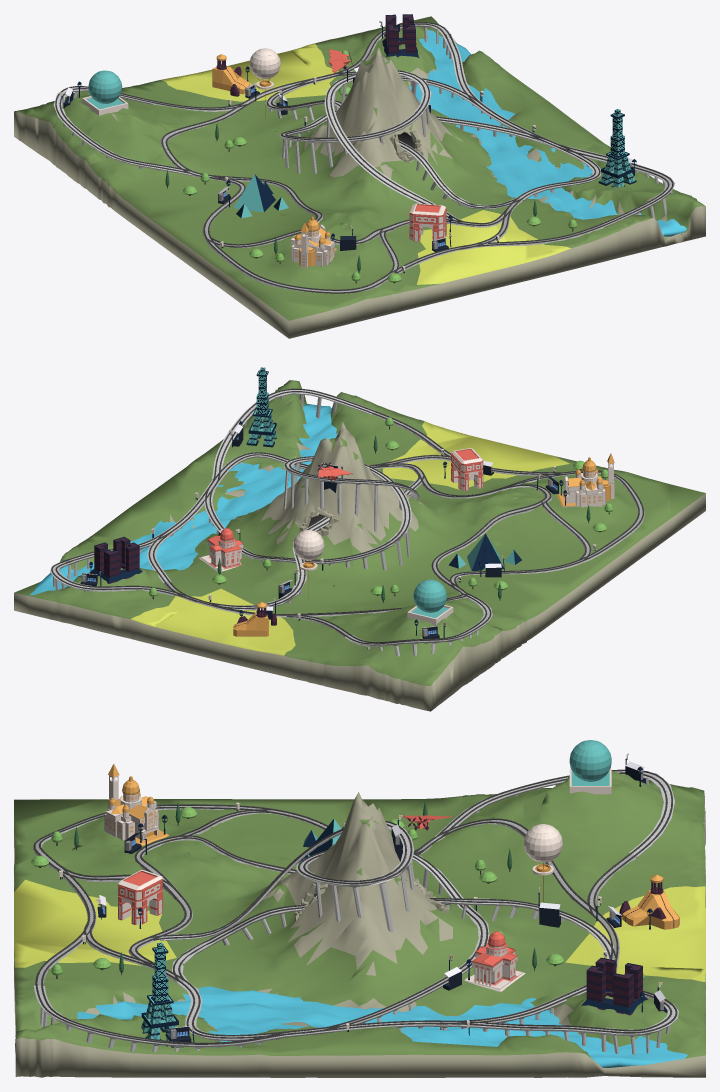
The model's file is Map_aramis_Export_Unity.fbx.
3 renders of one model, top to bottom at view 1: azimuth 30°, elevation 25°; view 2: azimuth 150°, elevation 25°; view 3: azimuth 270°, elevation 25°, orthographic. The views are drawn at different scales.
Parts seen in each view (by area): view 1: Landscape, Water, Bridge.009, Rail_1.001, Rail_3.001, Gravel_1, SacreCoeur, TourEiffel, geodeSocle, Rail_8.001, Rail_5.001, ArcdeTriomphe (+11 smaller); view 2: Landscape, Water, Bridge.009, Rail_1.001, SacreCoeur, Gravel_1, bibliFM, Rail_3.001, Bridge.006, geodeSocle, Rail_8.001, TourEiffel (+8 smaller); view 3: Landscape, Water, Bridge.009, Rail_1.001, SacreCoeur, Rail_3.001, bibliFM, Gravel_1, geodeSocle, Pantheon, Bridge.006, ArcdeTriomphe (+13 smaller).
Part boxes in pixels (x1,y1,x2,y2): Landscape: (14, 16, 705, 338); Water: (408, 29, 686, 236); Bridge.009: (53, 23, 674, 227); Rail_1.001: (161, 22, 600, 243); Rail_3.001: (281, 70, 555, 226); Gravel_1: (160, 32, 522, 244); SacreCoeur: (290, 216, 337, 268); TourEiffel: (598, 109, 636, 187); geodeSocle: (82, 70, 128, 115); Rail_8.001: (390, 144, 673, 273); Rail_5.001: (203, 175, 398, 293); ArcdeTriomphe: (409, 203, 446, 241); Landscape: (14, 380, 705, 711); Water: (30, 403, 338, 595); Bridge.009: (50, 388, 492, 656); Rail_1.001: (51, 452, 551, 615); SacreCoeur: (557, 453, 614, 507); Gravel_1: (89, 464, 552, 617); bibliFM: (90, 536, 142, 583); Rail_3.001: (205, 456, 424, 562); Bridge.006: (283, 457, 386, 532); geodeSocle: (407, 579, 453, 624); Rail_8.001: (212, 388, 561, 482); TourEiffel: (246, 367, 276, 447); Landscape: (14, 771, 705, 1077); Water: (77, 986, 687, 1067); Bridge.009: (33, 771, 678, 1054); Rail_1.001: (129, 818, 677, 1038); SacreCoeur: (104, 764, 168, 845); Rail_3.001: (142, 821, 488, 1033); bibliFM: (581, 957, 648, 1015); Gravel_1: (128, 820, 671, 1005); geodeSocle: (569, 740, 611, 794); Pantheon: (464, 931, 525, 991); Bridge.006: (306, 822, 414, 932); ArcdeTriomphe: (118, 870, 162, 924).
Bounding box in the file's own units: 2804 × 864 × 3201.
Materials: 35 (22 with a texture image).
